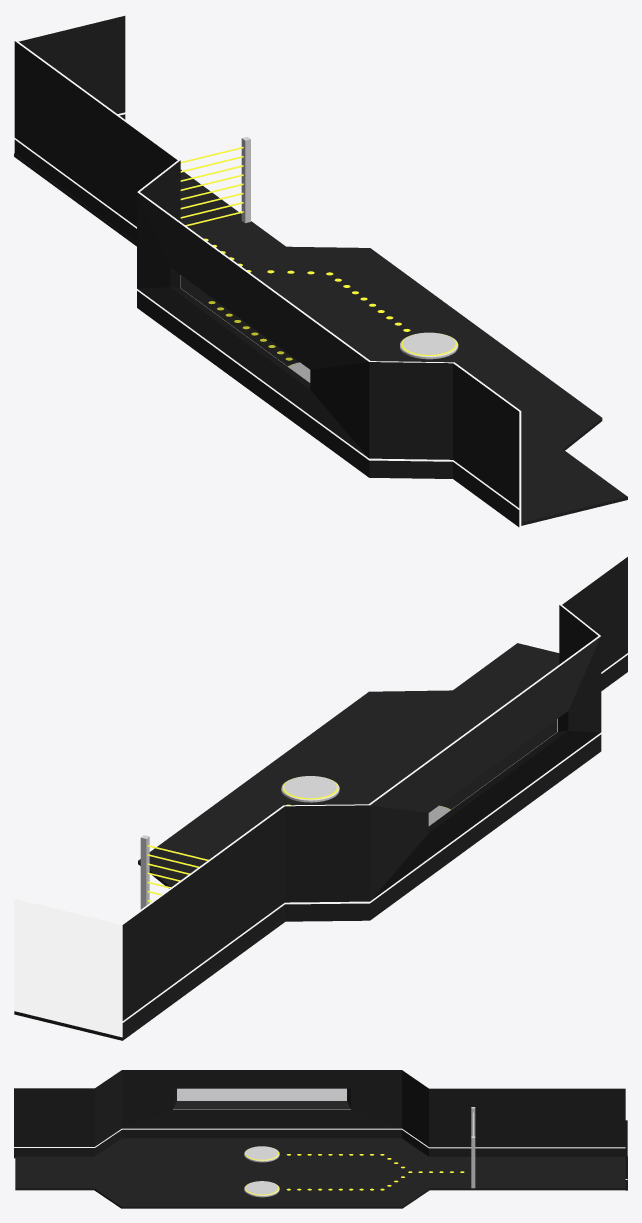
File: SciFi.glb
3 views of the same model, one above another, from view 1: azimuth 30°, elevation 25°; view 2: azimuth 150°, elevation 25°; view 3: azimuth 270°, elevation 25° (orthographic). The views are drawn at different scales.
Parts seen in each view (by area): view 1: Plane, Cube, Cylinder, Cube.003, Cube.002; view 2: Plane, Cube, Cylinder, Cube.002; view 3: Plane, Cube, Cylinder.001, Cylinder, Cube.002.
Part boxes in pixels (box(x1,y1,x2,y2)): Plane: box(14, 14, 521, 527); Cube: box(14, 153, 627, 525); Cylinder: box(400, 332, 458, 359); Cube.003: box(180, 147, 243, 226); Cube.002: box(241, 137, 250, 223); Plane: box(14, 556, 627, 1037); Cube: box(14, 643, 559, 1040); Cylinder: box(281, 776, 339, 802); Cube.002: box(140, 835, 149, 909); Plane: box(14, 1069, 627, 1190); Cube: box(15, 1138, 627, 1208); Cylinder.001: box(244, 1146, 279, 1162); Cylinder: box(244, 1181, 279, 1197); Cube.002: box(471, 1107, 475, 1188).
Size of the model in its own units: 3.88 by 1.75 by 13.83.
